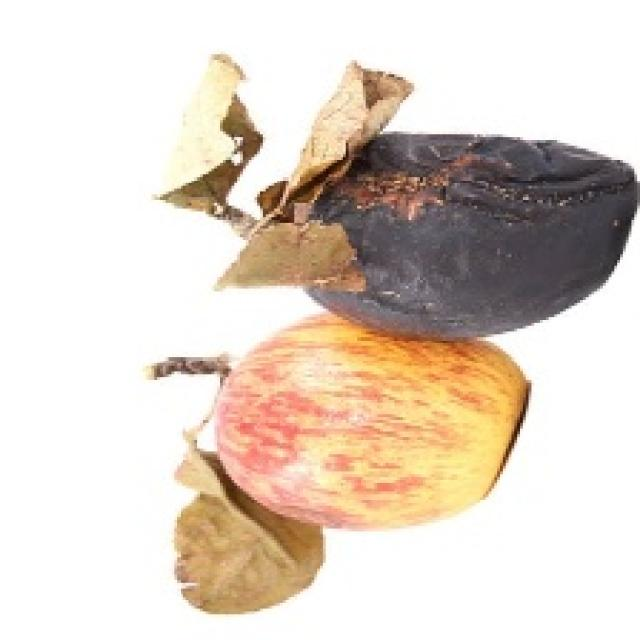rotten_apple: (284, 136, 634, 334)
